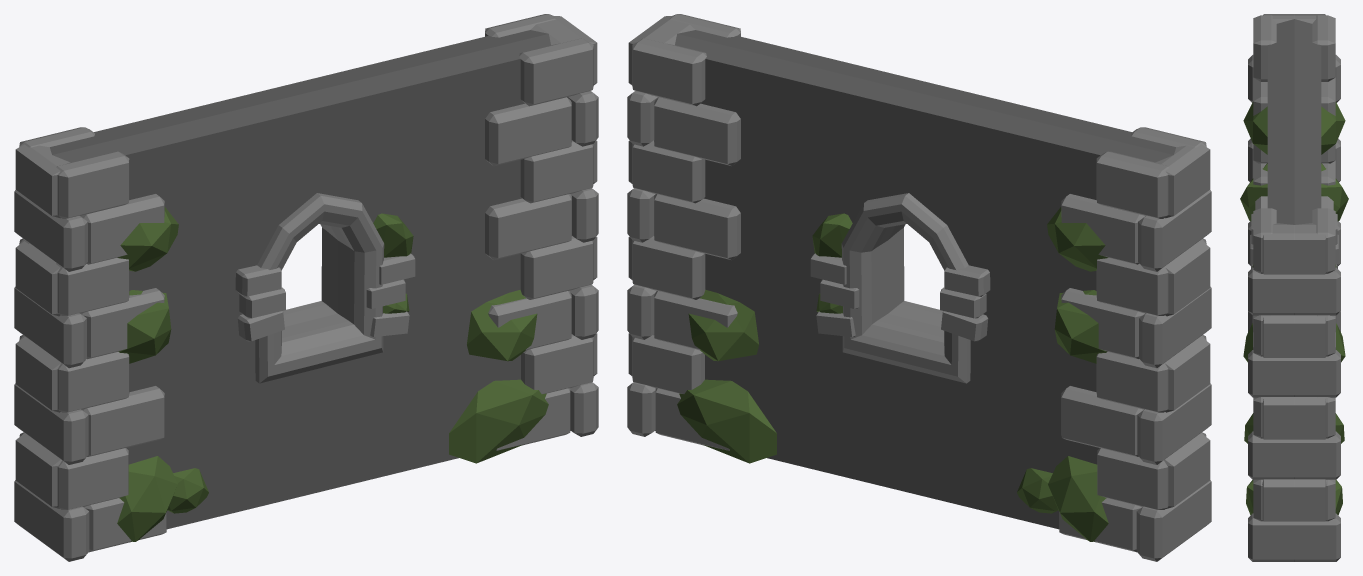
Rendered from DungeonWallWindowMossy.fbx.
3 views of the same model, side by side, from view 1: azimuth 30°, elevation 25°; view 2: azimuth 150°, elevation 25°; view 3: azimuth 270°, elevation 25° (orthographic). The views are drawn at different scales.
Parts seen in each view (by area): view 1: DungeonWallWindowMossy; view 2: DungeonWallWindowMossy; view 3: DungeonWallWindowMossy.
Boxes of the visible parts, box(x1,y1,x2,y2) form: DungeonWallWindowMossy: box(14, 14, 598, 561); DungeonWallWindowMossy: box(627, 14, 1211, 561); DungeonWallWindowMossy: box(1240, 14, 1348, 561).
Bounding box in the file's own units: 520 × 356 × 106.
Materials: 1 (1 with a texture image).
